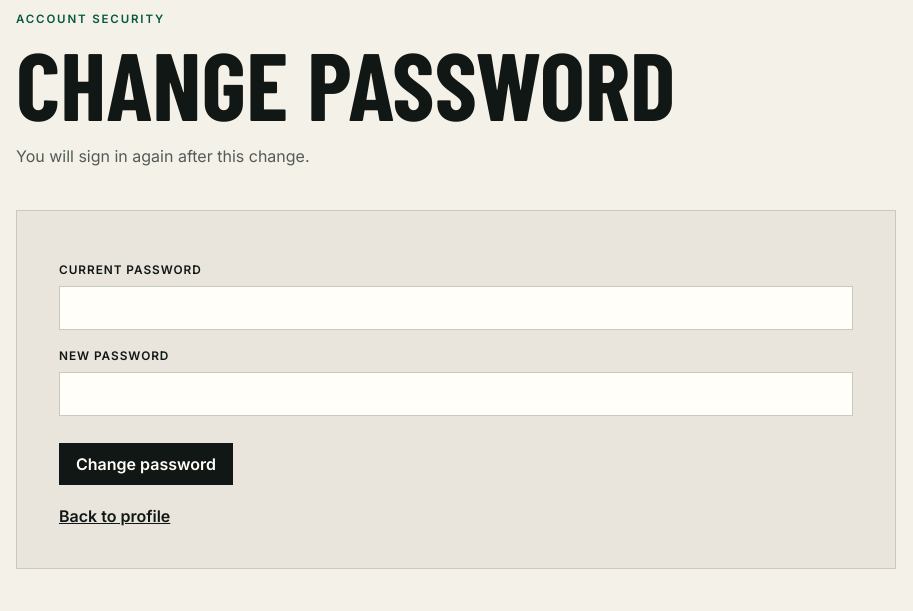
Test: prevents repeated password changes while pending
Type "old-password" into the password field labelled "Current password" at (456, 308), box 59,286 -> 853,330
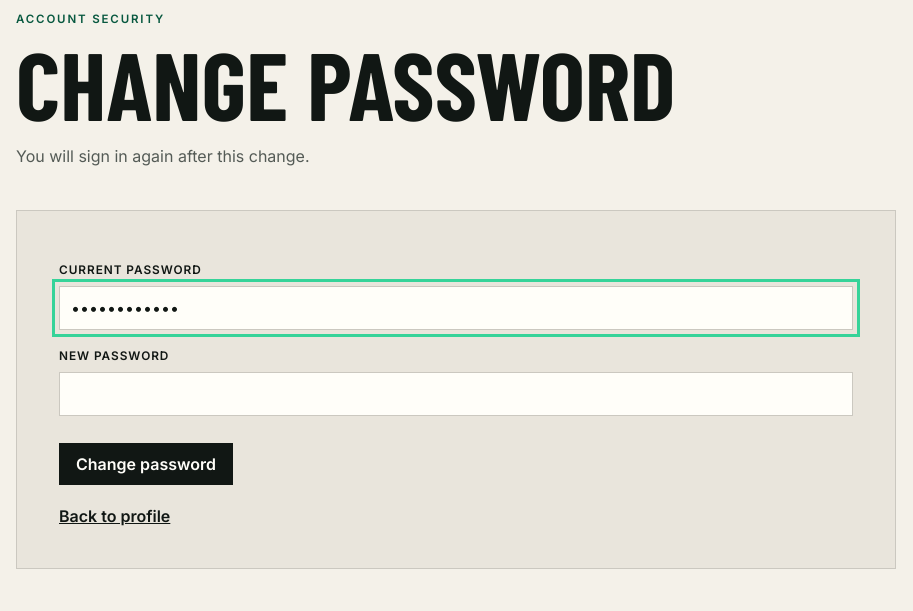
Type "new-password" into the password field labelled "New password" at (456, 394), box 59,372 -> 853,416
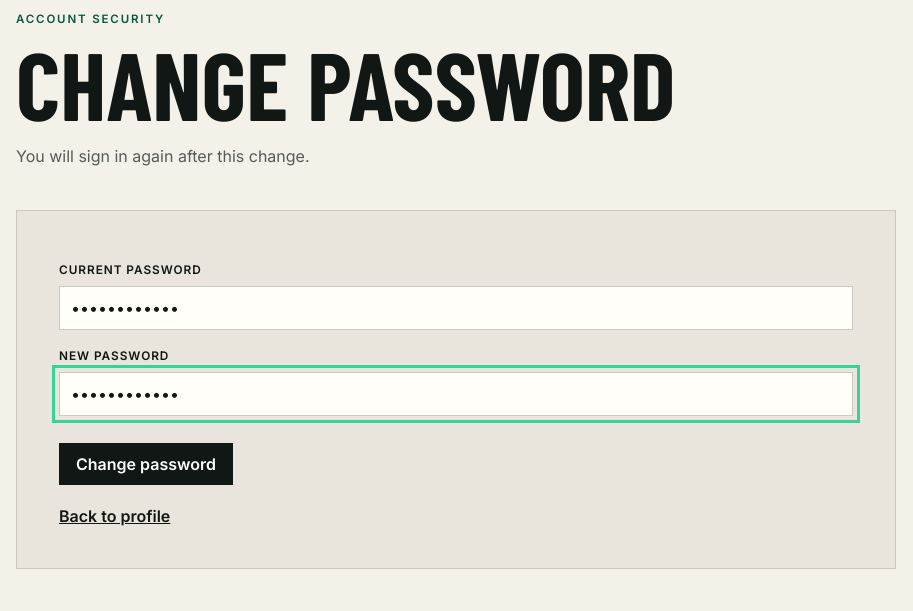
Click the button "Change password" at (146, 464), box 59,443 -> 233,485
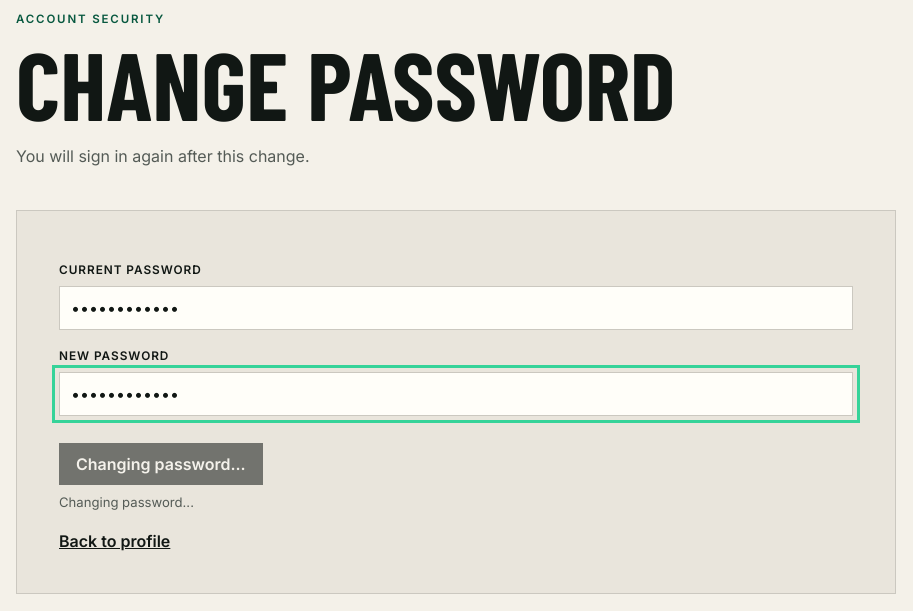
Check: the button "Changing password..." is disabled, box 59,443 -> 263,485
